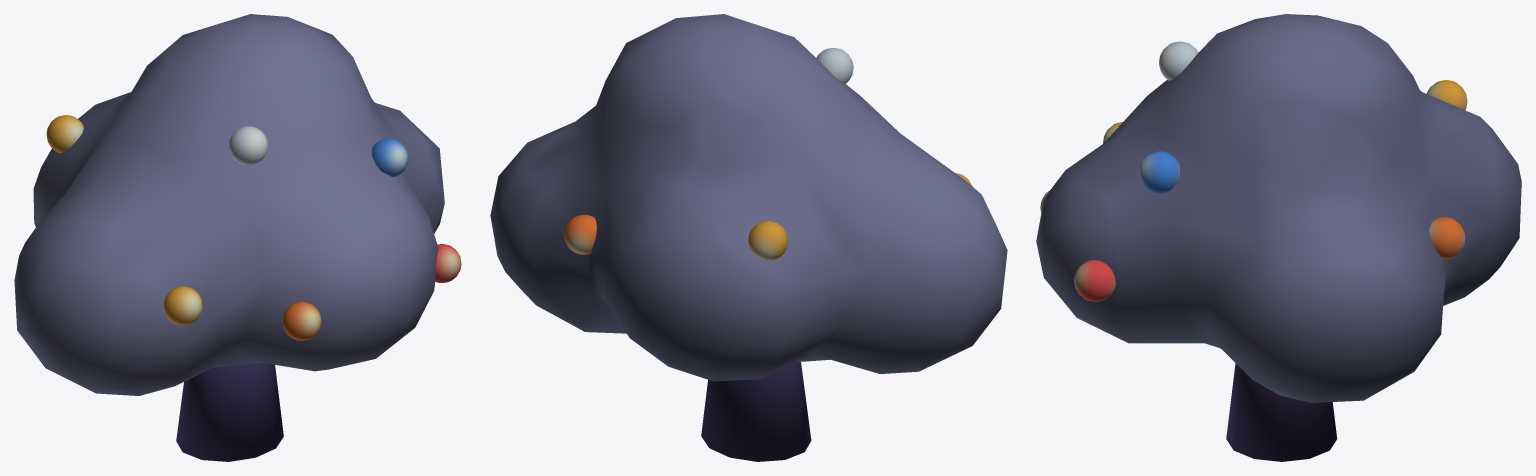
File: Fusion_Berry_Bush.glb
3 renders of one model, left to right at view 1: azimuth 30°, elevation 25°; view 2: azimuth 150°, elevation 25°; view 3: azimuth 270°, elevation 25°, orthographic. The views are drawn at different scales.
Visible parts, largest first — view 1: Fusion_Berry_Bush; view 2: Fusion_Berry_Bush; view 3: Fusion_Berry_Bush.
Boxes of the visible parts, x1,y1,x2,y2 form: Fusion_Berry_Bush: (14,14,461,461); Fusion_Berry_Bush: (490,14,1007,461); Fusion_Berry_Bush: (1036,14,1521,461).
Size of the model in its own units: 3.34 by 2.91 by 2.96.
